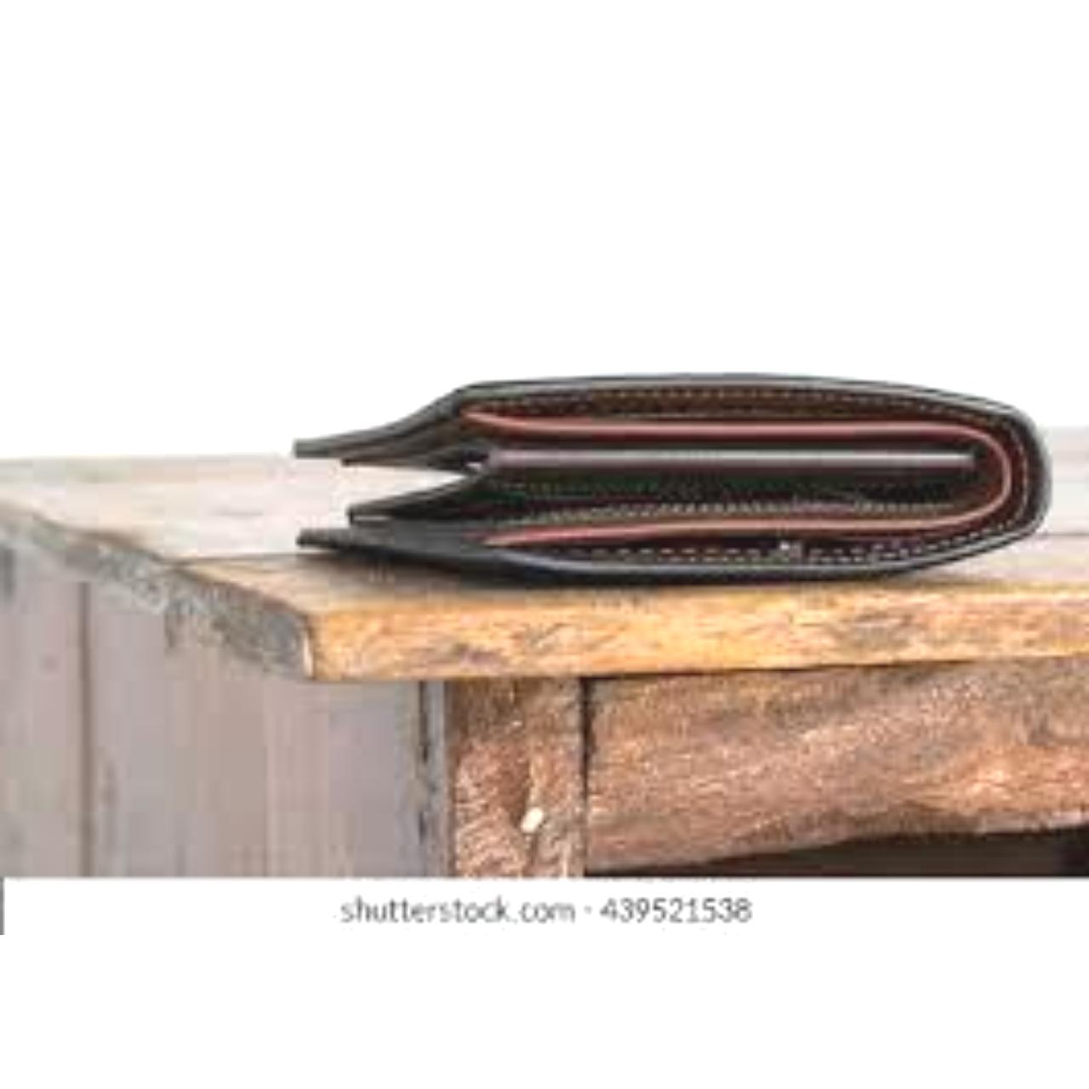wallet: (237, 349, 1087, 604)
